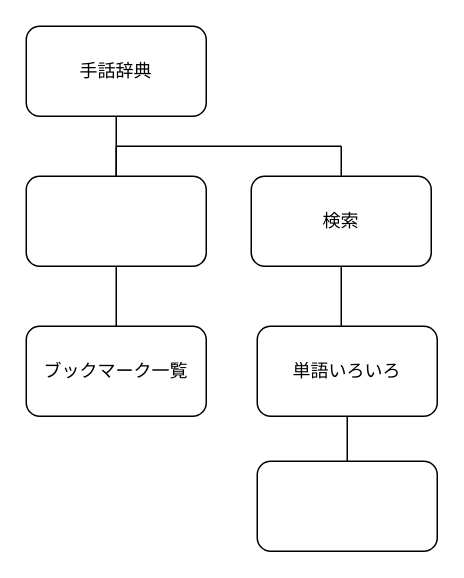
Image size: 464x578. Some labels were removed from this diagram. Each missing label, with the centre of its shape:
"ブックマーク" belongs at pixel 115 220.
"手話動画" belongs at pixel 346 505.
